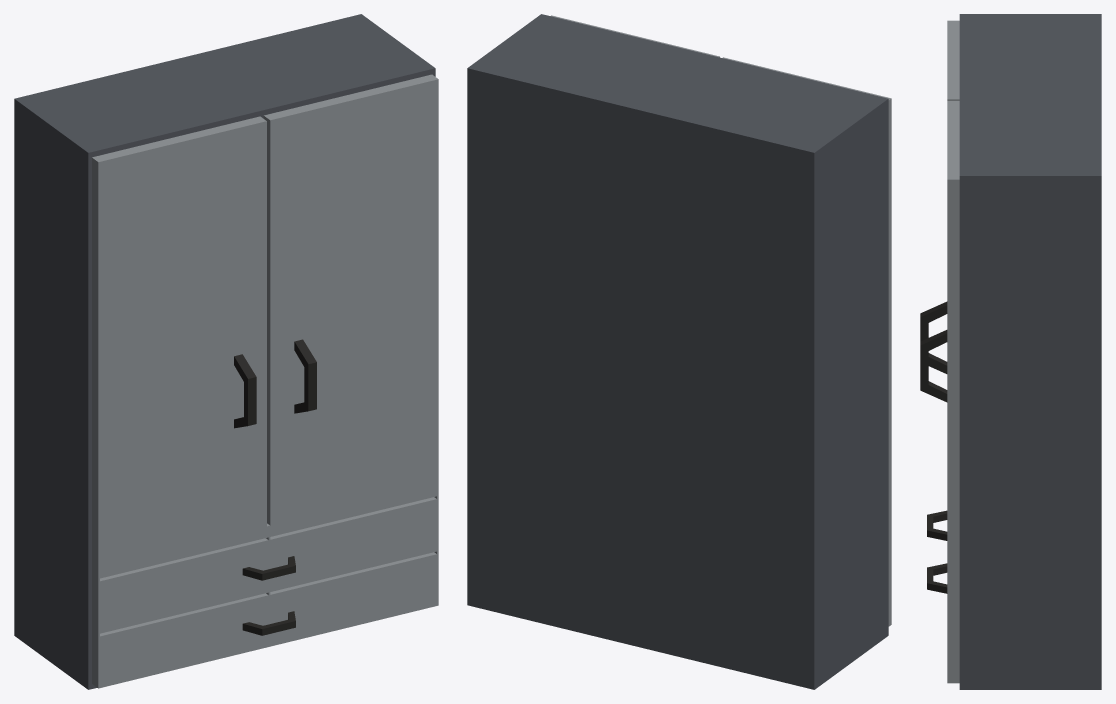
The model's file is WardRobe_2C.fbx.
3 renders of one model, left to right at view 1: azimuth 30°, elevation 25°; view 2: azimuth 150°, elevation 25°; view 3: azimuth 270°, elevation 25°, orthographic. The views are drawn at different scales.
Visible parts, largest first — view 1: polySurface1712; view 2: polySurface1712; view 3: polySurface1712.
Boxes of the visible parts, x1=… form: polySurface1712: x1=14, y1=14, x2=438, y2=689; polySurface1712: x1=467, y1=14, x2=891, y2=689; polySurface1712: x1=920, y1=14, x2=1101, y2=689.
Bounding box in the file's own units: 2.3 × 3.4 × 1.09.
1 material, 1 textured.
